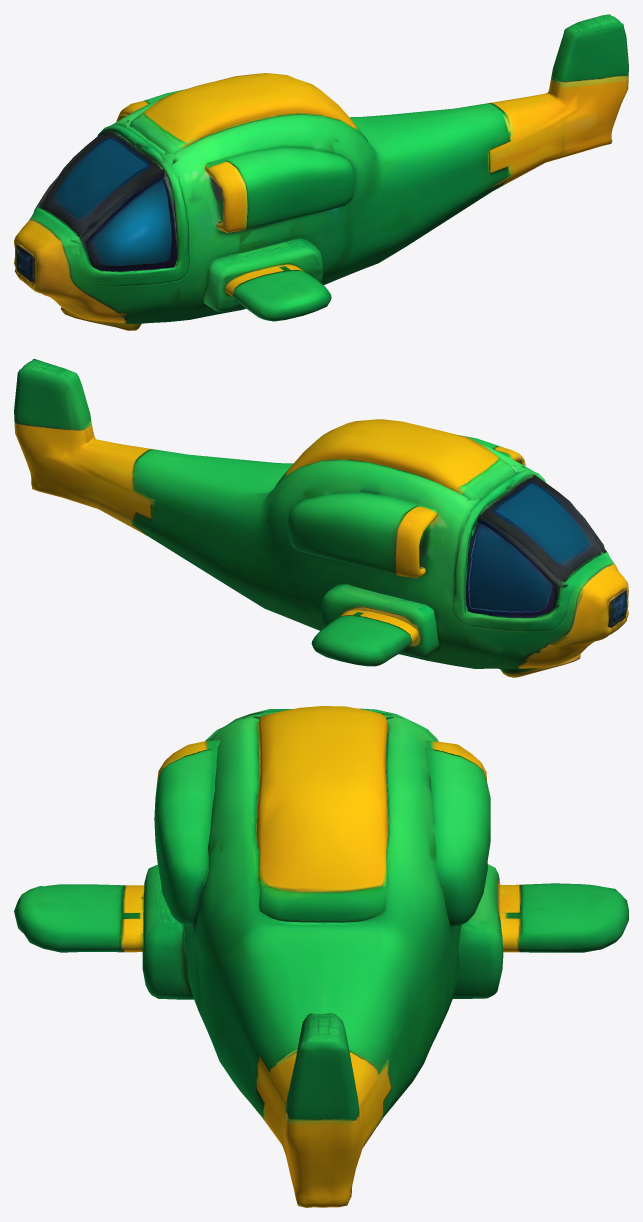
The model's file is Meshy_AI_Azure_and_Gold_Starfi_0714083123_texture.glb.
The picture shows the model from 3 angles, top to bottom: view 1: azimuth 30°, elevation 25°; view 2: azimuth 150°, elevation 25°; view 3: azimuth 270°, elevation 25°; orthographic projection. The views are drawn at different scales.
Bounding box in the file's own units: 1 × 0.335 × 0.6074.
1 material, 1 textured.
